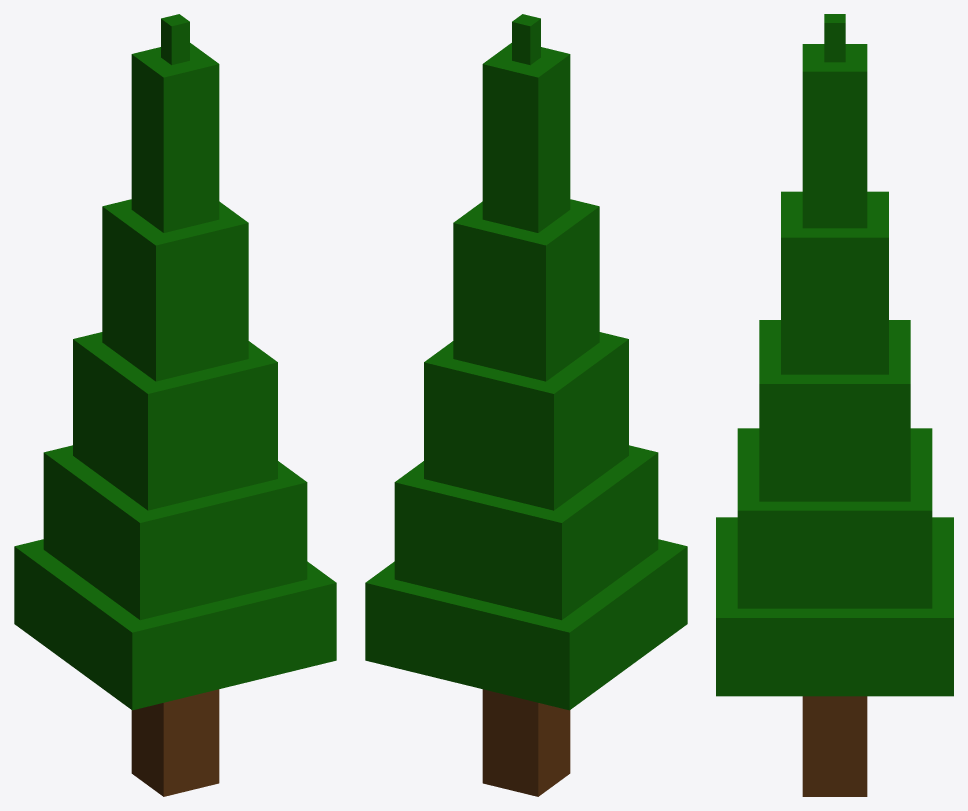
Rendered from Pine Tree(2) (Stage6).obj.
The picture shows the model from 3 angles, left to right: view 1: azimuth 30°, elevation 25°; view 2: azimuth 150°, elevation 25°; view 3: azimuth 270°, elevation 25°; orthographic projection.
Size of the model in its own units: 1.1 by 3.9 by 1.1.
1 material, 1 textured.
